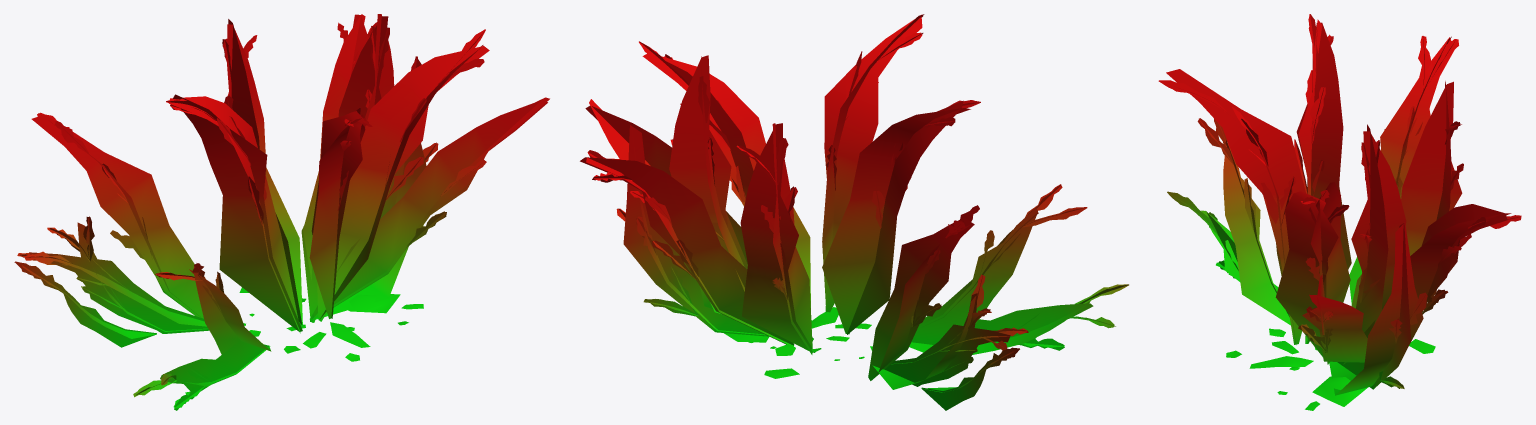
File: River Saltbush_LOD0_Var9_vdfpcgbia.fbx
3 views of the same model, side by side, from view 1: azimuth 30°, elevation 25°; view 2: azimuth 150°, elevation 25°; view 3: azimuth 270°, elevation 25° (orthographic).
Parts seen in each view (by area): view 1: _duly_Var9_LOD0; view 2: _duly_Var9_LOD0; view 3: _duly_Var9_LOD0.
Part boxes in pixels (x1=…): _duly_Var9_LOD0: x1=14, y1=14, x2=549, y2=410; _duly_Var9_LOD0: x1=580, y1=14, x2=1128, y2=410; _duly_Var9_LOD0: x1=1158, y1=14, x2=1521, y2=410.
Bounding box in the file's own units: 29.28 × 16.97 × 18.95.
